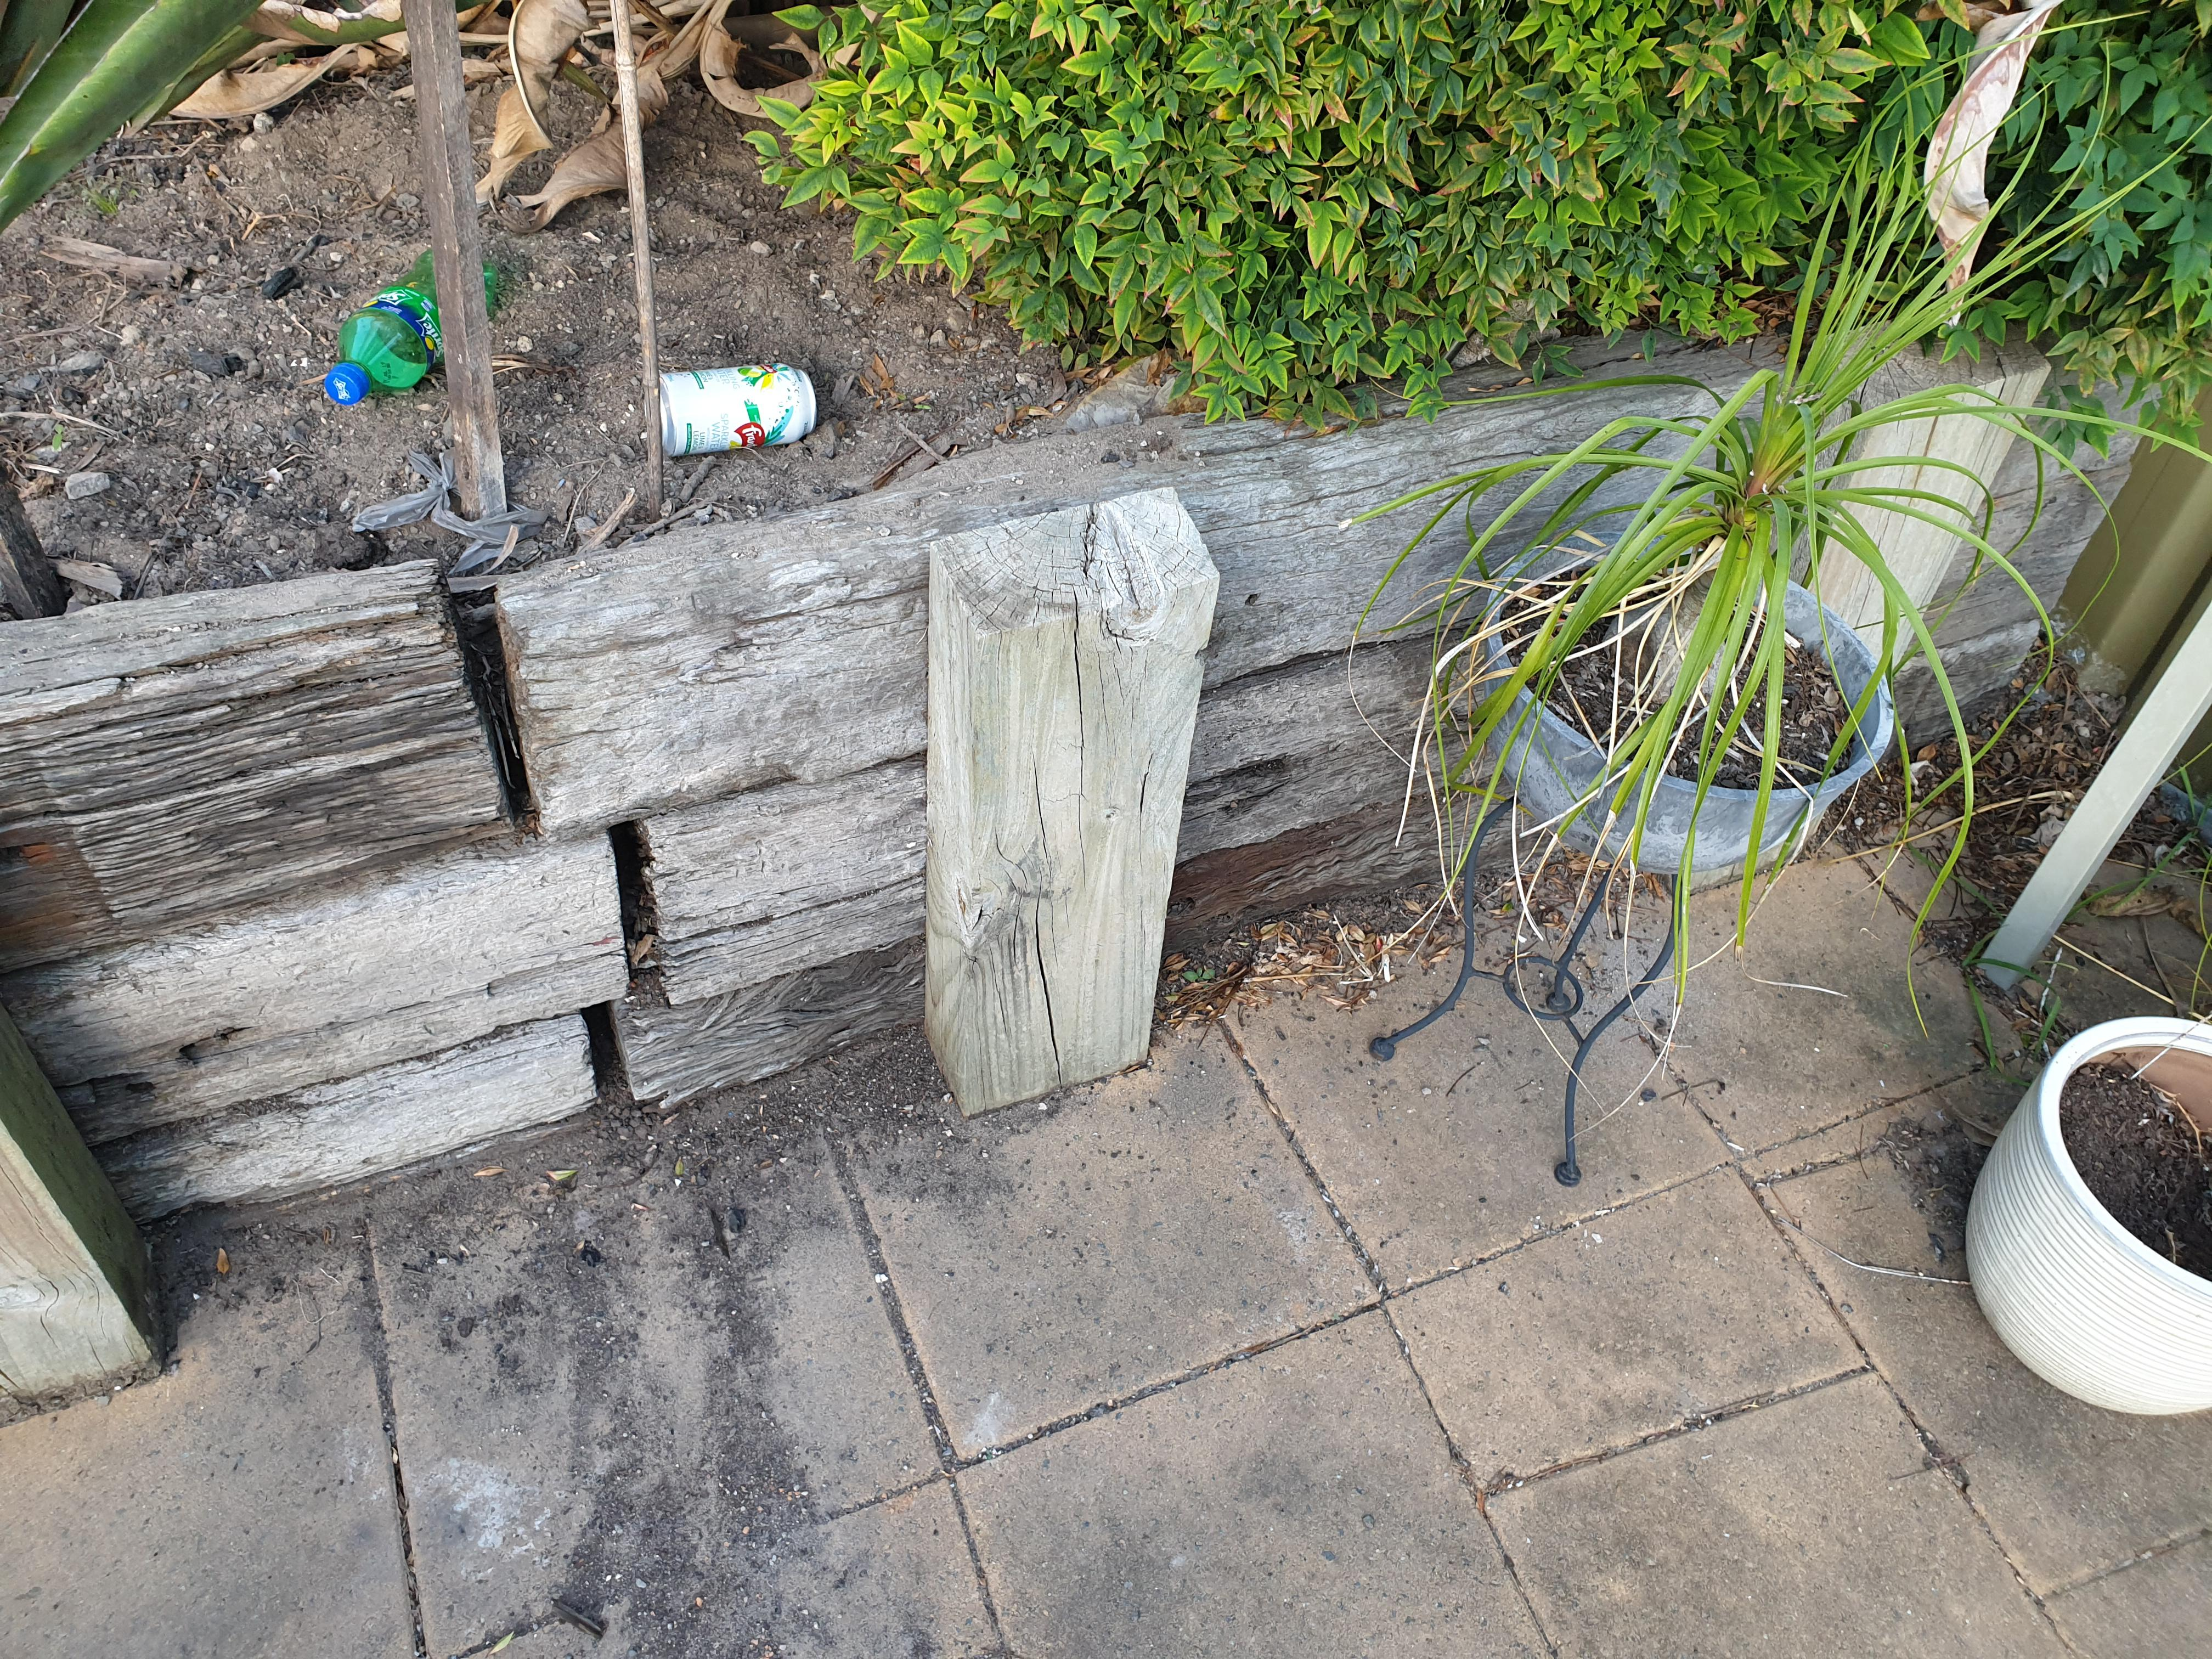Plastic Bottle: (326, 247, 496, 404), (660, 361, 813, 457)
